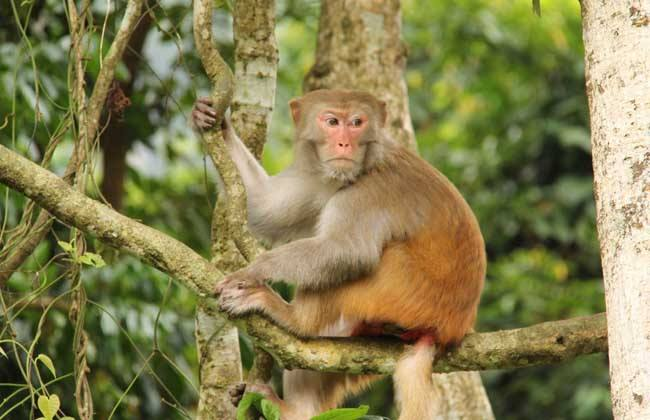monkey: (193, 61, 505, 404)
